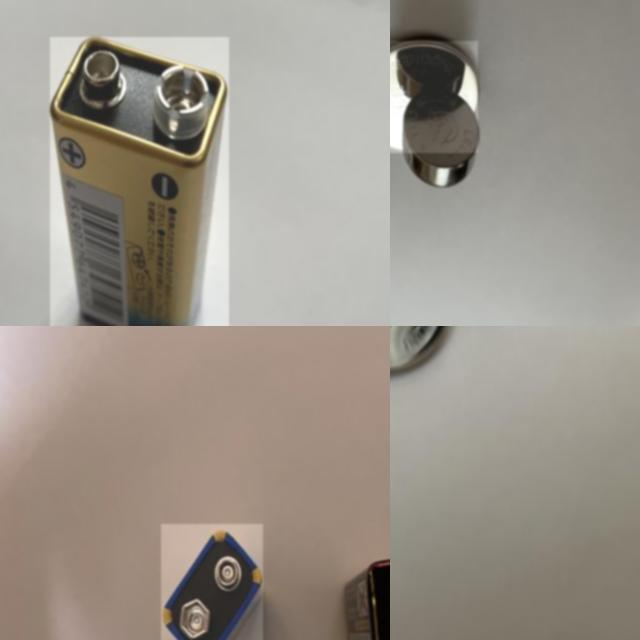9V: (50, 37, 229, 326), (160, 524, 263, 640), (342, 554, 390, 640)
